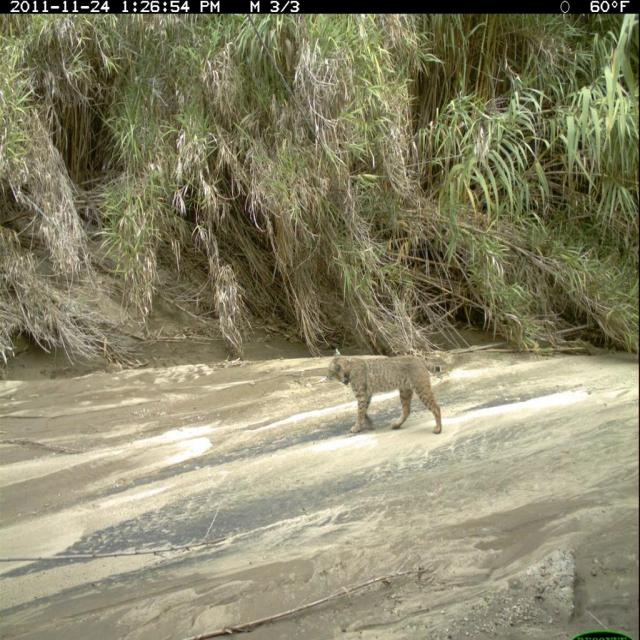bobcat: (322, 349, 450, 440)
